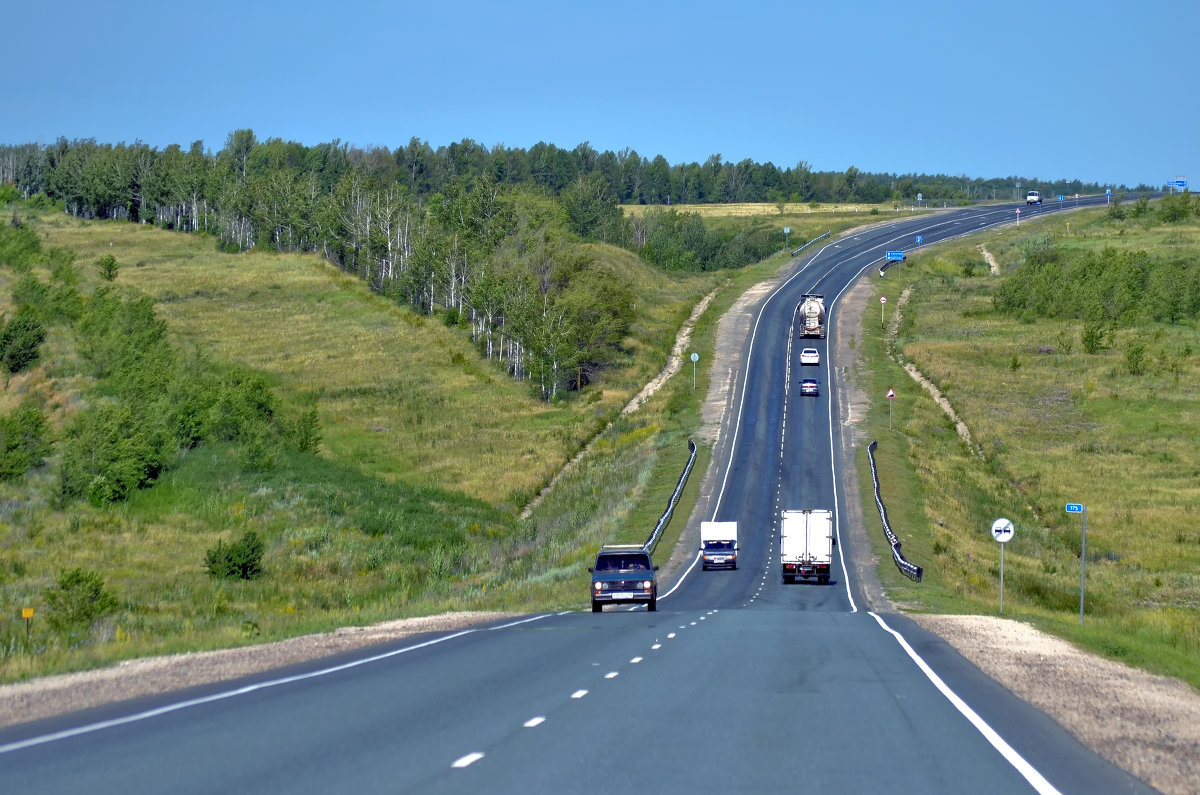sign: (990, 517, 1016, 544), (1064, 501, 1086, 516), (885, 386, 898, 400), (915, 235, 925, 245), (1105, 187, 1112, 197), (879, 296, 887, 304), (1057, 194, 1066, 201), (1015, 207, 1021, 214)
